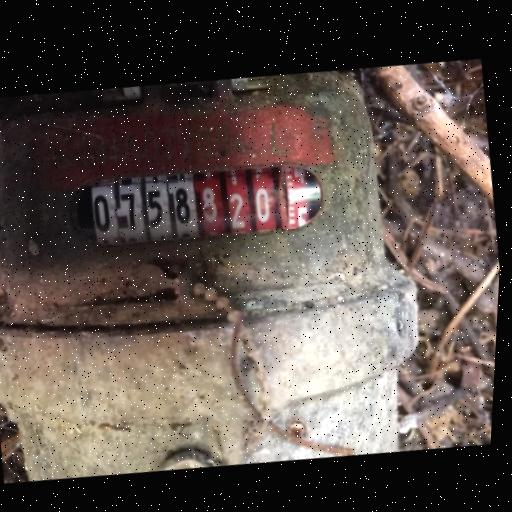0: (85, 178, 123, 248), (245, 166, 282, 234)
2: (218, 166, 256, 237)
4: (279, 161, 318, 232)
5: (134, 174, 177, 244)
7: (111, 174, 151, 245)
8: (164, 170, 204, 241), (189, 169, 230, 238)
border_water_meter_number: (62, 142, 335, 267)
